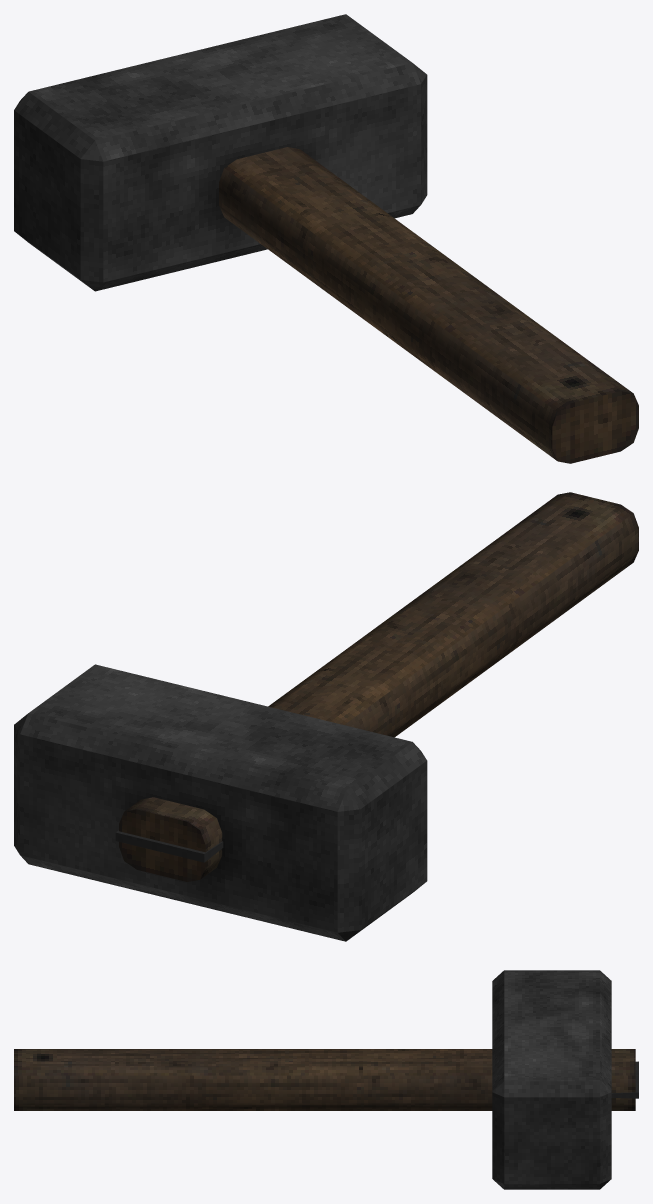
File: hammer_mx_1_1.glb
The picture shows the model from 3 angles, top to bottom: view 1: azimuth 30°, elevation 25°; view 2: azimuth 150°, elevation 25°; view 3: azimuth 270°, elevation 25°; orthographic projection. The views are drawn at different scales.
Parts seen in each view (by area): view 1: hammer_mx_1_1; view 2: hammer_mx_1_1; view 3: hammer_mx_1_1.
Part boxes in pixels (x1,y1,x2,y2): hammer_mx_1_1: (14, 14, 638, 463); hammer_mx_1_1: (14, 492, 638, 941); hammer_mx_1_1: (14, 970, 638, 1189).
Size of the model in its own units: 0.24 by 0.1 by 0.5227.
Materials: 1 (1 with a texture image).
